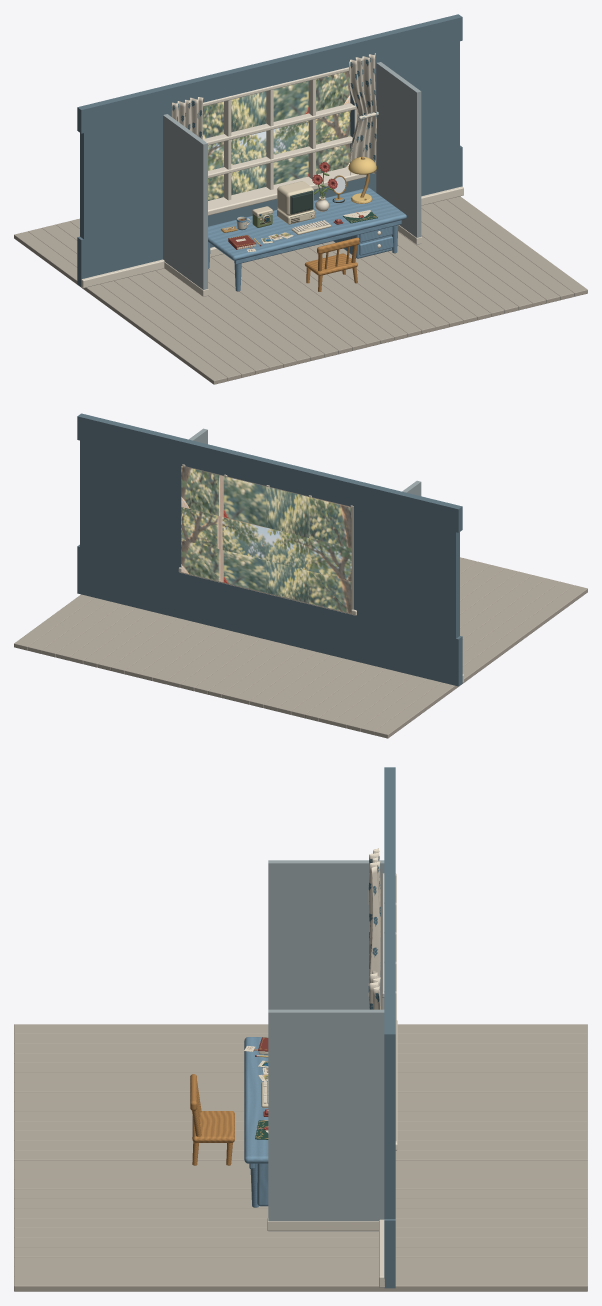
The model's file is window-desk-dream.glb.
3 views of the same model, one above another, from view 1: azimuth 30°, elevation 25°; view 2: azimuth 150°, elevation 25°; view 3: azimuth 270°, elevation 25° (orthographic). The views are drawn at different scales.
Parts seen in each view (by area): view 1: Wallpaper.001, Wallpaper.002, Side wall, Side wall.001, Wallpaper, Wallpaper.003, Blue desk top, Floor board, Floor board.001, Linen curtain 1, Floor board.002, Floor board.003 (+45 smaller); view 2: Wallpaper, Wallpaper.002, Wallpaper.003, Wallpaper.001, Floor board, Floor board.001, Floor board.002, Floor board.003, Floor board.004, Garden view behind glass.010, Garden view behind glass.008, Garden view behind glass.009 (+31 smaller); view 3: Side wall.001, Side wall, Floor board.026, Floor board.023, Floor board.022, Floor board.024, Floor board.025, Floor board.021, Floor board.019, Floor board.016, Floor board.002, Floor board.005 (+24 smaller).
Part boxes in pixels (left/top/right/bottom): Wallpaper.001: left=77, top=14, right=462, bottom=133; Wallpaper.002: left=80, top=111, right=171, bottom=239; Side wall: left=163, top=114, right=207, bottom=296; Side wall.001: left=376, top=62, right=421, bottom=244; Wallpaper: left=77, top=145, right=462, bottom=286; Wallpaper.003: left=350, top=41, right=459, bottom=156; Blue desk top: left=208, top=187, right=406, bottom=260; Floor board: left=14, top=231, right=227, bottom=384; Floor board.001: left=28, top=228, right=241, bottom=381; Linen curtain 1: left=349, top=53, right=376, bottom=175; Floor board.002: left=42, top=224, right=255, bottom=377; Floor board.003: left=55, top=221, right=269, bottom=374; Wallpaper: left=77, top=544, right=462, bottom=686; Wallpaper.002: left=351, top=505, right=459, bottom=638; Wallpaper.003: left=80, top=439, right=185, bottom=570; Wallpaper.001: left=77, top=413, right=462, bottom=532; Floor board: left=374, top=585, right=587, bottom=738; Floor board.001: left=360, top=581, right=573, bottom=734; Floor board.002: left=346, top=578, right=559, bottom=731; Floor board.003: left=332, top=575, right=545, bottom=728; Floor board.004: left=319, top=571, right=532, bottom=724; Garden view behind glass.010: left=223, top=476, right=266, bottom=527; Garden view behind glass.008: left=309, top=497, right=351, bottom=548; Garden view behind glass.009: left=266, top=486, right=308, bottom=537; Side wall.001: left=268, top=1009, right=384, bottom=1231; Side wall: left=268, top=860, right=384, bottom=1009; Floor board.026: left=14, top=1276, right=587, bottom=1291; Floor board.023: left=14, top=1247, right=587, bottom=1257; Floor board.022: left=14, top=1237, right=587, bottom=1247; Floor board.024: left=14, top=1257, right=587, bottom=1266; Floor board.025: left=14, top=1267, right=587, bottom=1276; Floor board.021: left=14, top=1228, right=587, bottom=1237; Floor board.019: left=14, top=1208, right=587, bottom=1218; Floor board.016: left=14, top=1179, right=587, bottom=1189; Floor board.002: left=14, top=1043, right=587, bottom=1053; Floor board.005: left=14, top=1072, right=587, bottom=1082.
Size of the model in its own units: 11 by 5 by 10.
Materials: 52 (18 with a texture image).
